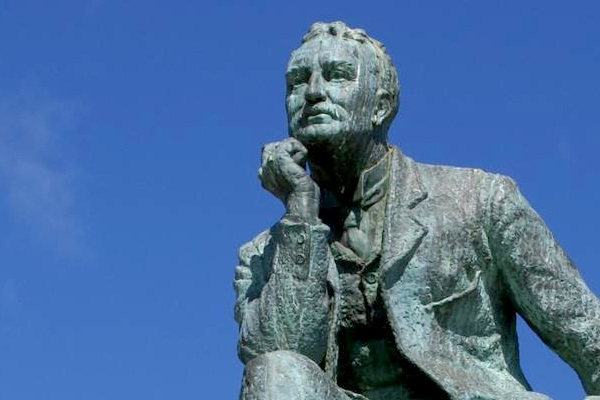person-like: (230, 16, 599, 400)
